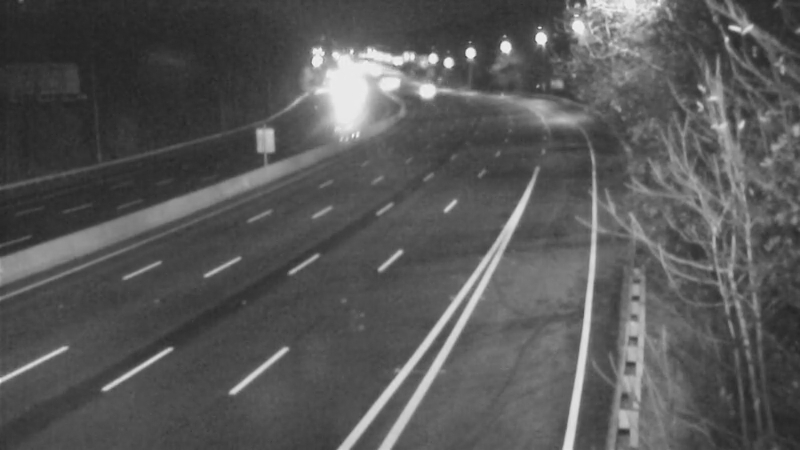vehicle: (406, 68, 456, 118), (321, 84, 371, 134)
